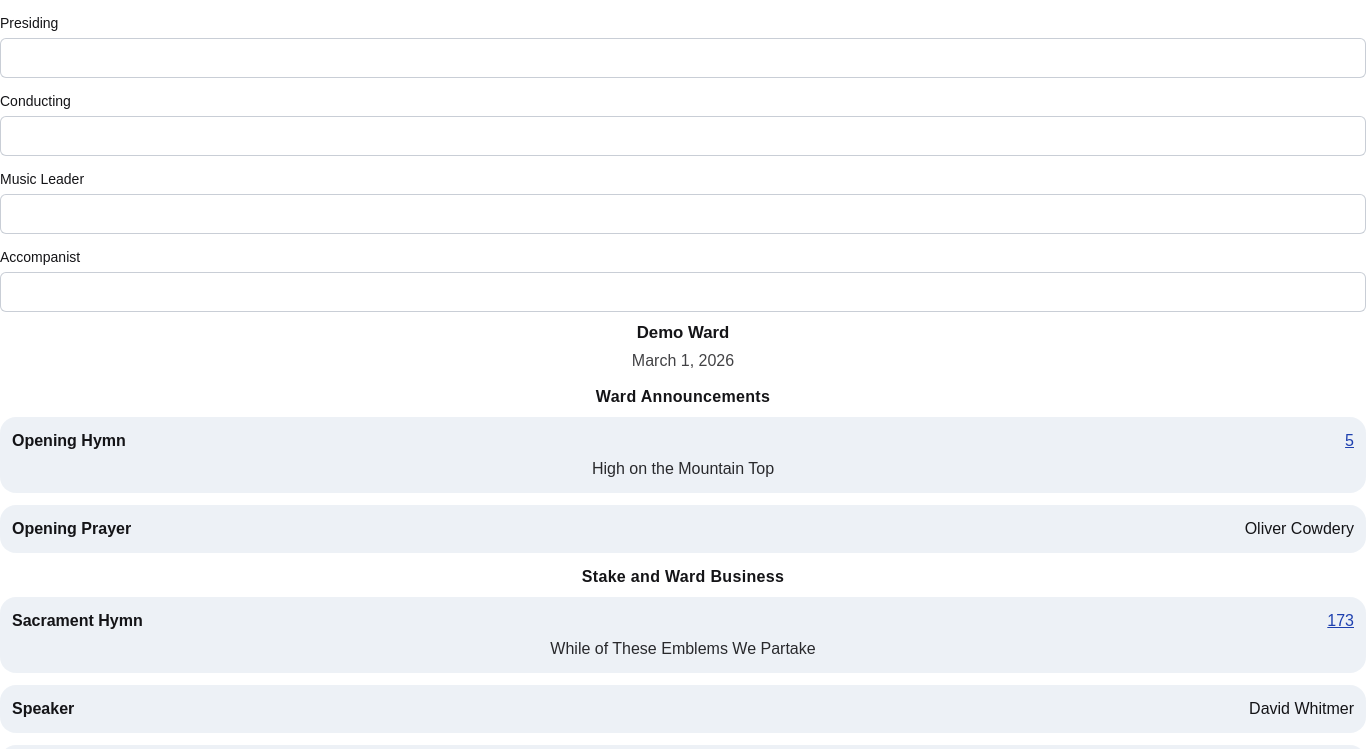
Scenario: Ward-facing layout integration › reflects leader changes and hides rows when a leader input is blank
In the field labelled "Presiding": (683, 58) [0,38,1365,78], type "Bishop Adams"
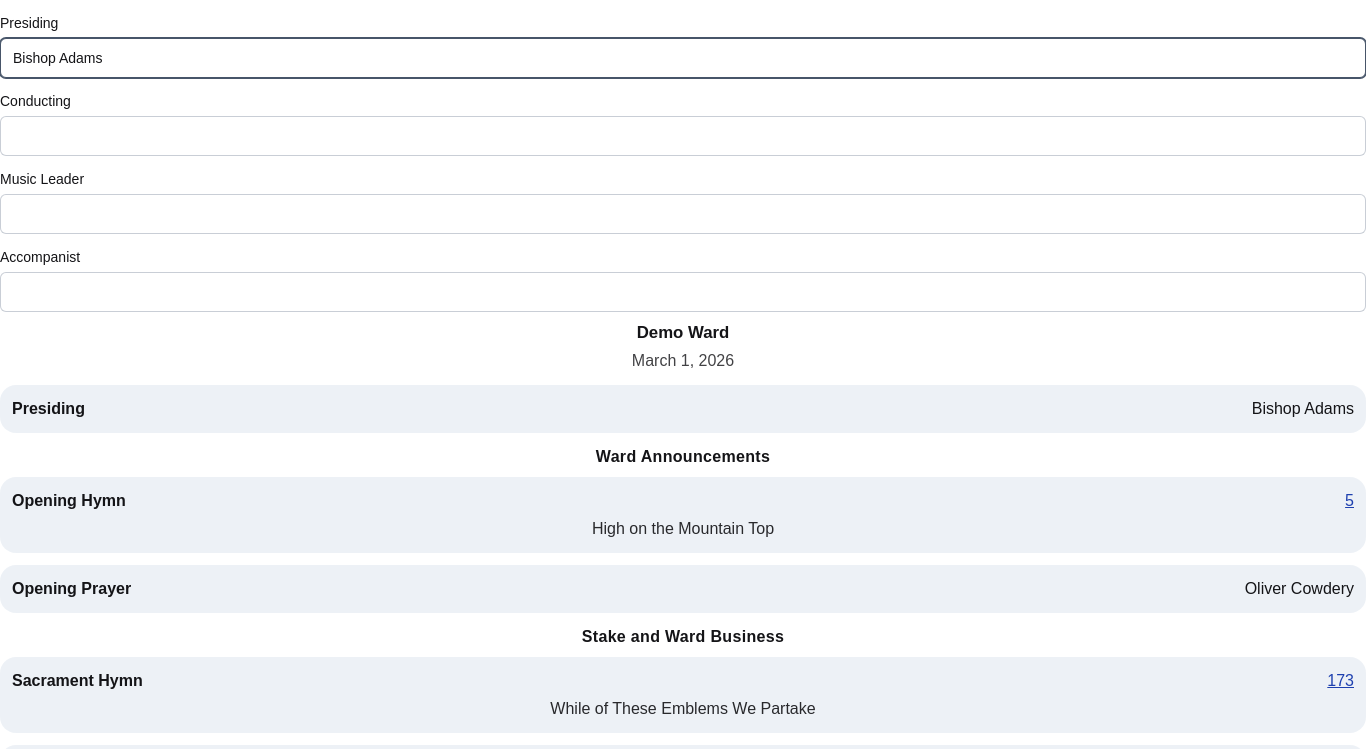
In the field labelled "Conducting": (683, 136) [0,116,1365,156], type "Brother Hill"
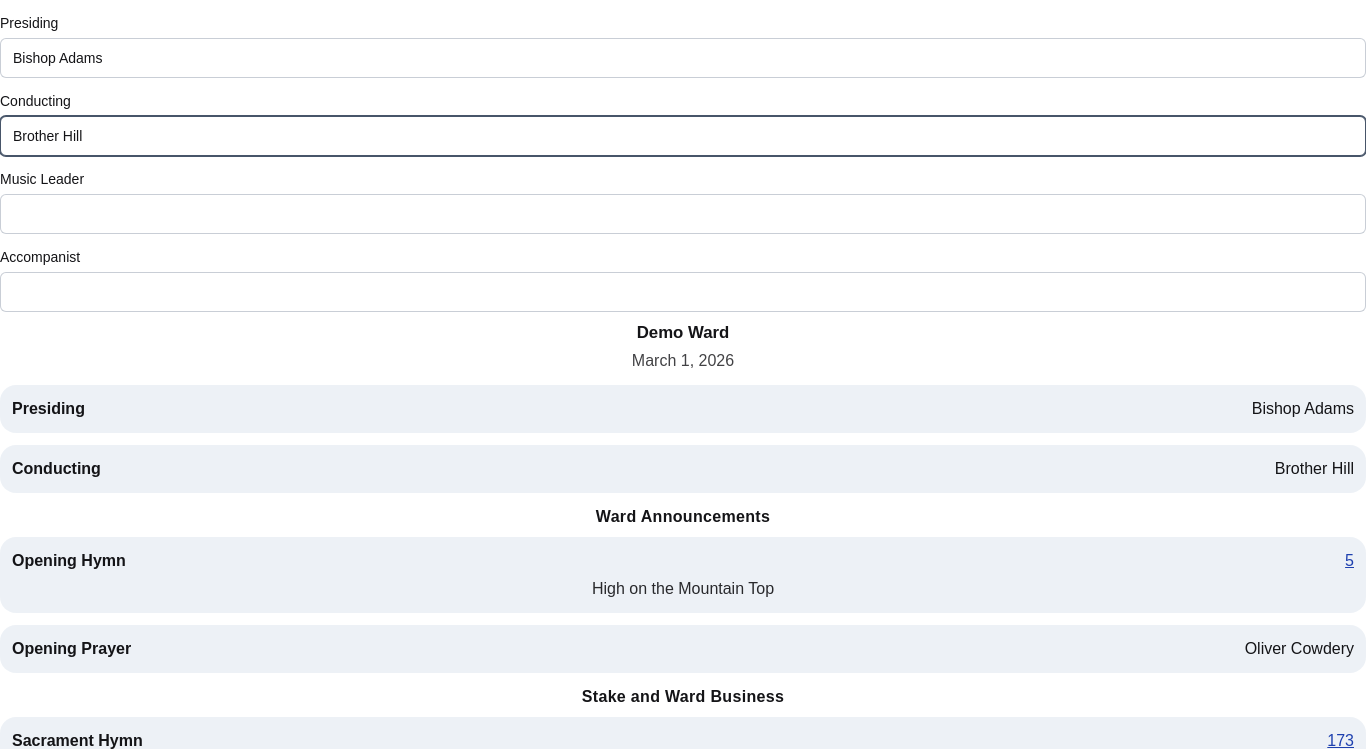
In the field labelled "Music Leader": (683, 214) [0,194,1365,234], type "Sister Carter"
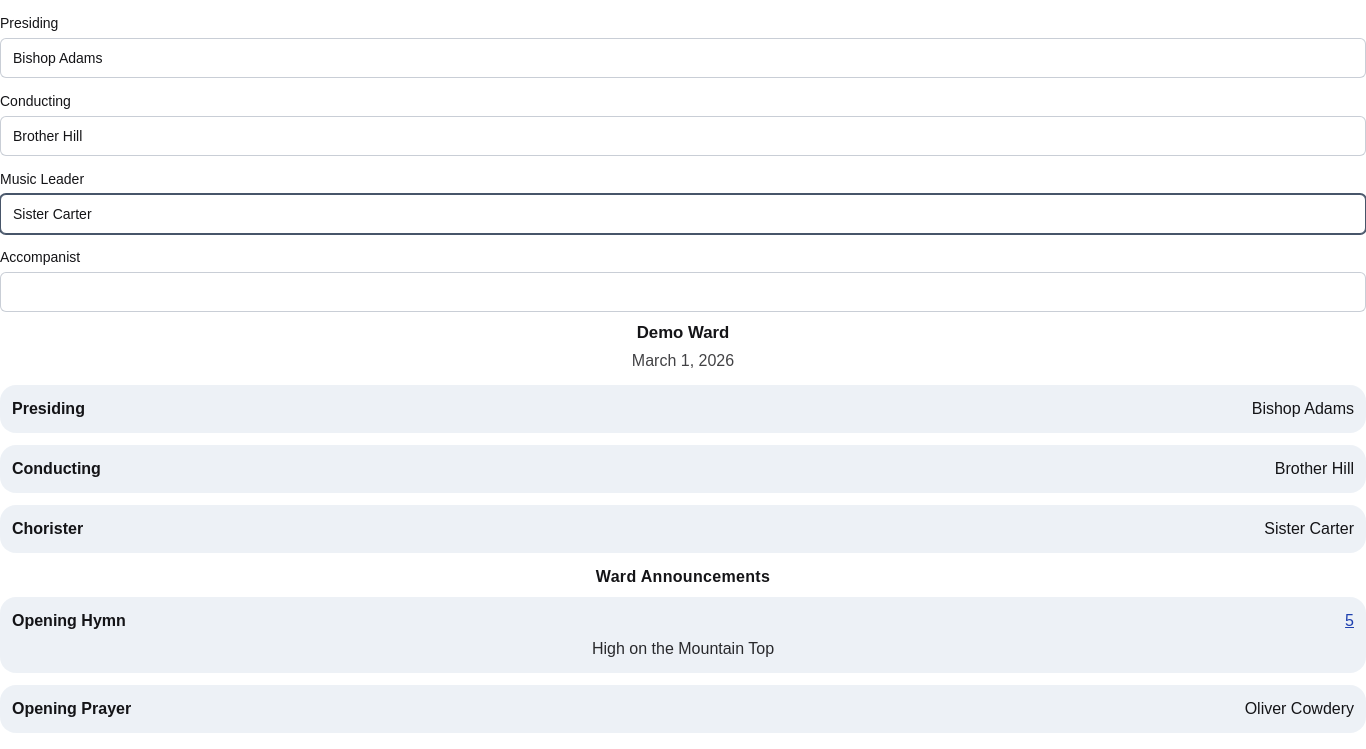
In the field labelled "Accompanist": (683, 292) [0,272,1365,312], type "Brother Young"
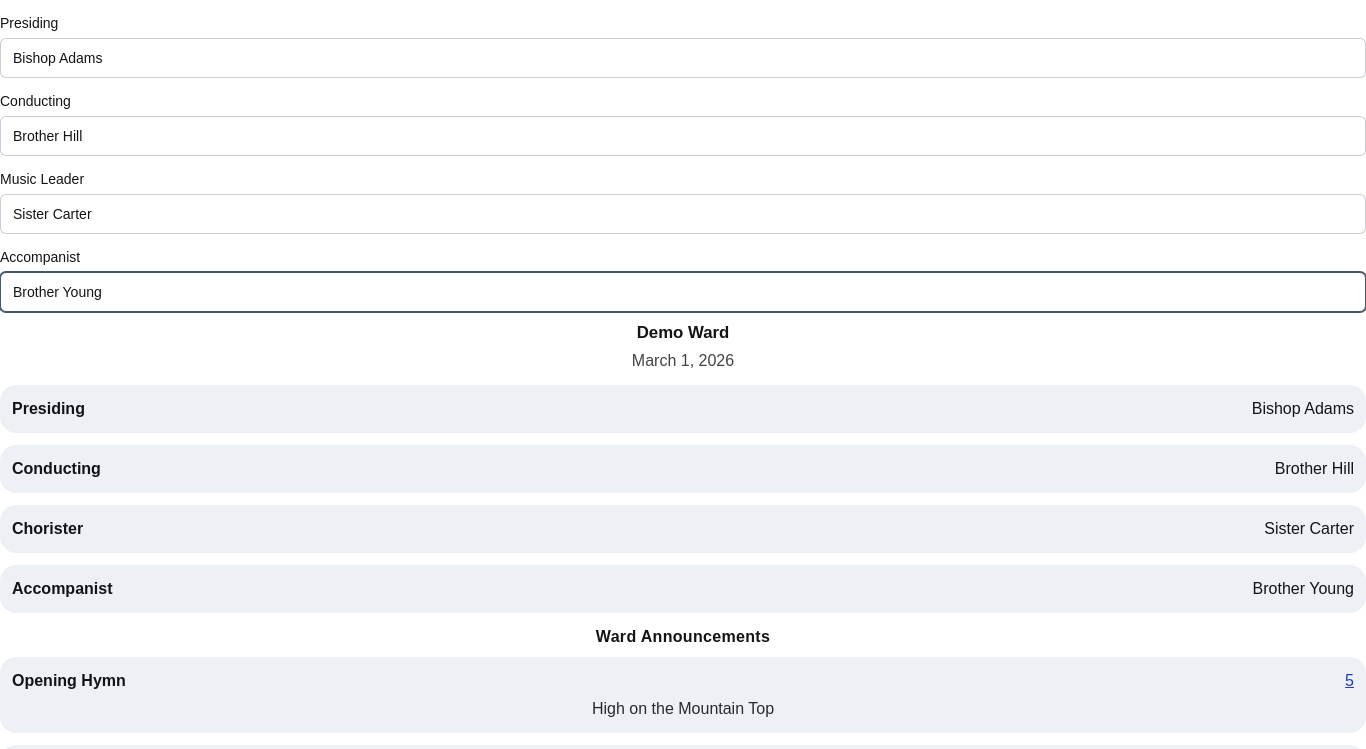
Expected: the text "Bishop Adams" is shown, [1252,397,1354,421]
Expected: the text "Brother Hill" is shown, [1275,457,1354,481]
Expected: the text "Sister Carter" is shown, [1264,517,1354,541]
Clear the field labelled "Conducting": (683, 136) [0,116,1365,156]
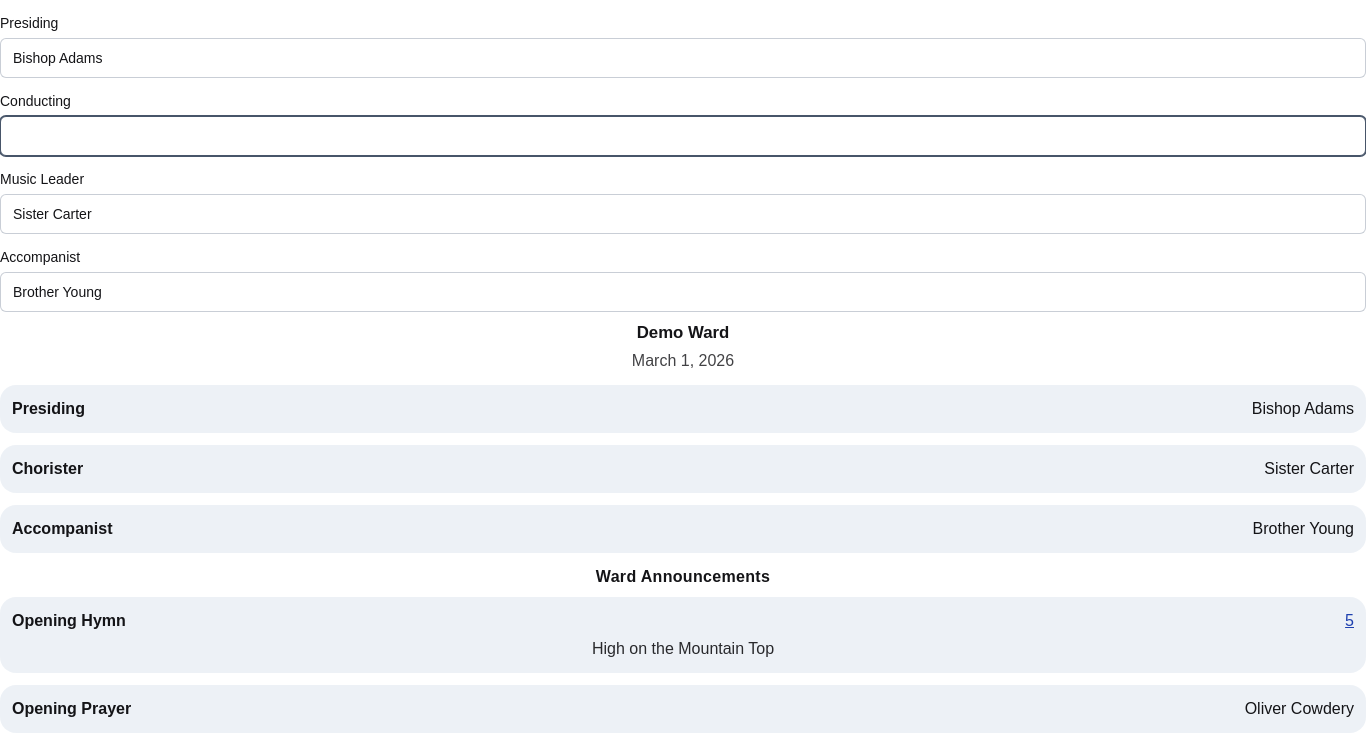
Clear the field labelled "Accompanist": (683, 292) [0,272,1365,312]
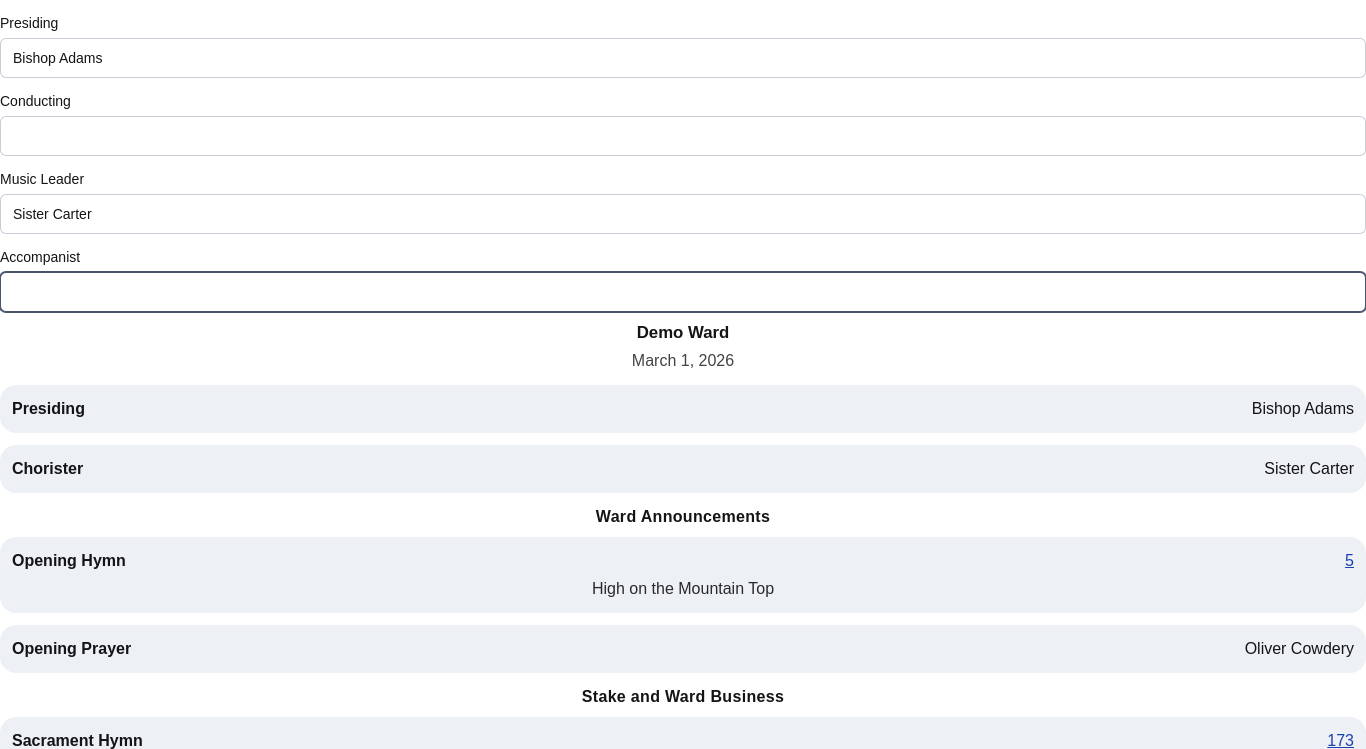
Expected: the text "Bishop Adams" is shown, [1252,397,1354,421]
Expected: the text "Sister Carter" is shown, [1264,457,1354,481]
Expected: the text "Brother Young" is gone
